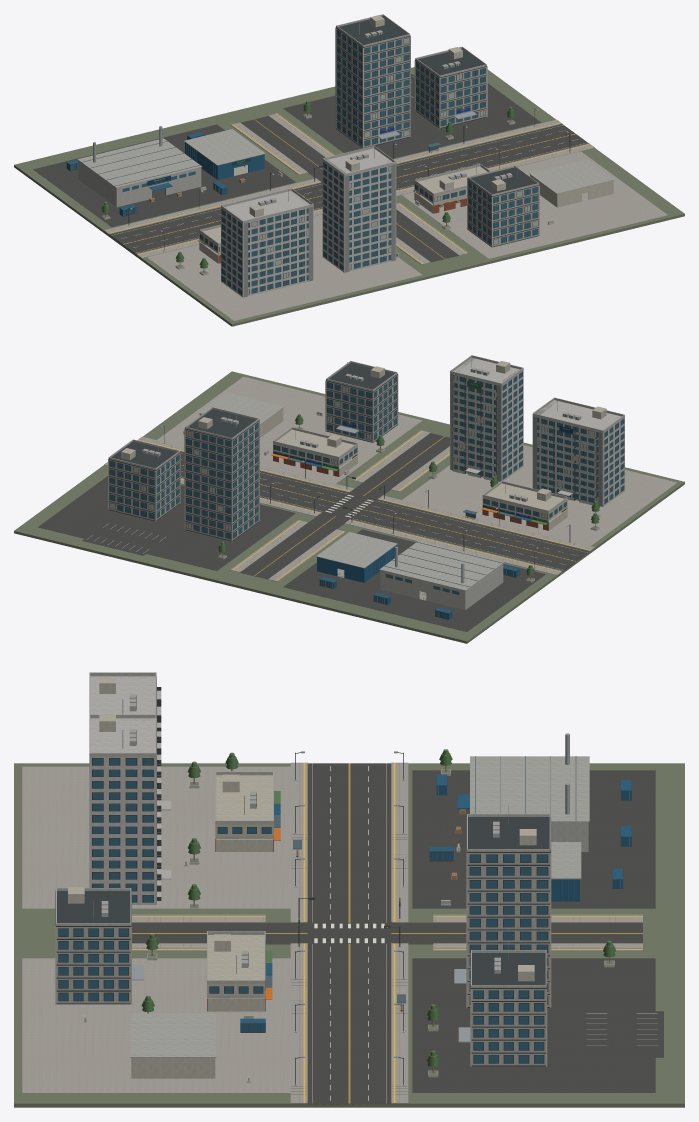
Rendered from korean_city_layout.glb.
The picture shows the model from 3 angles, top to bottom: view 1: azimuth 30°, elevation 25°; view 2: azimuth 150°, elevation 25°; view 3: azimuth 270°, elevation 25°; orthographic projection. The views are drawn at different scales.
Visible parts, largest first — view 1: city_ground_130, office_tower_071, apartment_slab_074, apartment_tower_075, factory_hall_069, office_midrise_072, office_midrise_079, warehouse_070, auto_workshop_078, retail_row_077, boulevard_30m_008, boulevard_30m_002 (+8 smaller); view 2: city_ground_130, office_tower_071, apartment_slab_074, apartment_tower_075, factory_hall_069, office_midrise_079, office_midrise_072, retail_row_077, retail_row_076, warehouse_070, boulevard_30m_002, boulevard_30m_001 (+11 smaller); view 3: city_ground_130, apartment_tower_075, office_tower_071, office_midrise_072, office_midrise_079, factory_hall_069, auto_workshop_078, retail_row_076, retail_row_077, boulevard_30m_008, boulevard_30m_001, boulevard_30m_002 (+11 smaller).
Part boxes in pixels (bbox=[...]): city_ground_130: bbox=[14, 67, 684, 326]; office_tower_071: bbox=[335, 14, 410, 148]; apartment_slab_074: bbox=[221, 188, 313, 297]; apartment_tower_075: bbox=[322, 145, 396, 272]; factory_hall_069: bbox=[77, 126, 202, 207]; office_midrise_072: bbox=[414, 46, 487, 128]; office_midrise_079: bbox=[467, 165, 539, 247]; warehouse_070: bbox=[184, 129, 265, 179]; auto_workshop_078: bbox=[529, 159, 614, 207]; retail_row_077: bbox=[413, 164, 490, 213]; boulevard_30m_008: bbox=[492, 124, 588, 160]; boulevard_30m_002: bbox=[109, 217, 199, 254]; city_ground_130: bbox=[14, 371, 684, 643]; office_tower_071: bbox=[184, 407, 259, 541]; apartment_slab_074: bbox=[532, 397, 624, 506]; apartment_tower_075: bbox=[450, 355, 523, 481]; factory_hall_069: bbox=[379, 541, 504, 610]; office_midrise_079: bbox=[325, 361, 398, 442]; office_midrise_072: bbox=[108, 439, 180, 521]; retail_row_077: bbox=[271, 427, 357, 476]; retail_row_076: bbox=[481, 481, 567, 530]; warehouse_070: bbox=[316, 532, 397, 582]; boulevard_30m_002: bbox=[492, 534, 589, 571]; boulevard_30m_001: bbox=[422, 517, 518, 553]; city_ground_130: bbox=[14, 763, 684, 1107]; apartment_tower_075: bbox=[89, 714, 171, 904]; office_tower_071: bbox=[454, 805, 551, 1007]; office_midrise_072: bbox=[458, 941, 547, 1066]; office_midrise_079: bbox=[55, 887, 143, 1004]; factory_hall_069: bbox=[457, 733, 589, 851]; auto_workshop_078: bbox=[130, 1013, 216, 1078]; retail_row_076: bbox=[215, 771, 280, 851]; retail_row_077: bbox=[207, 931, 272, 1011]; boulevard_30m_008: bbox=[307, 1050, 391, 1104]; boulevard_30m_001: bbox=[307, 816, 391, 869]; boulevard_30m_002: bbox=[307, 763, 391, 816].
Size of the model in its own units: 192 by 46.85 by 160.
23 materials, 14 textured.
